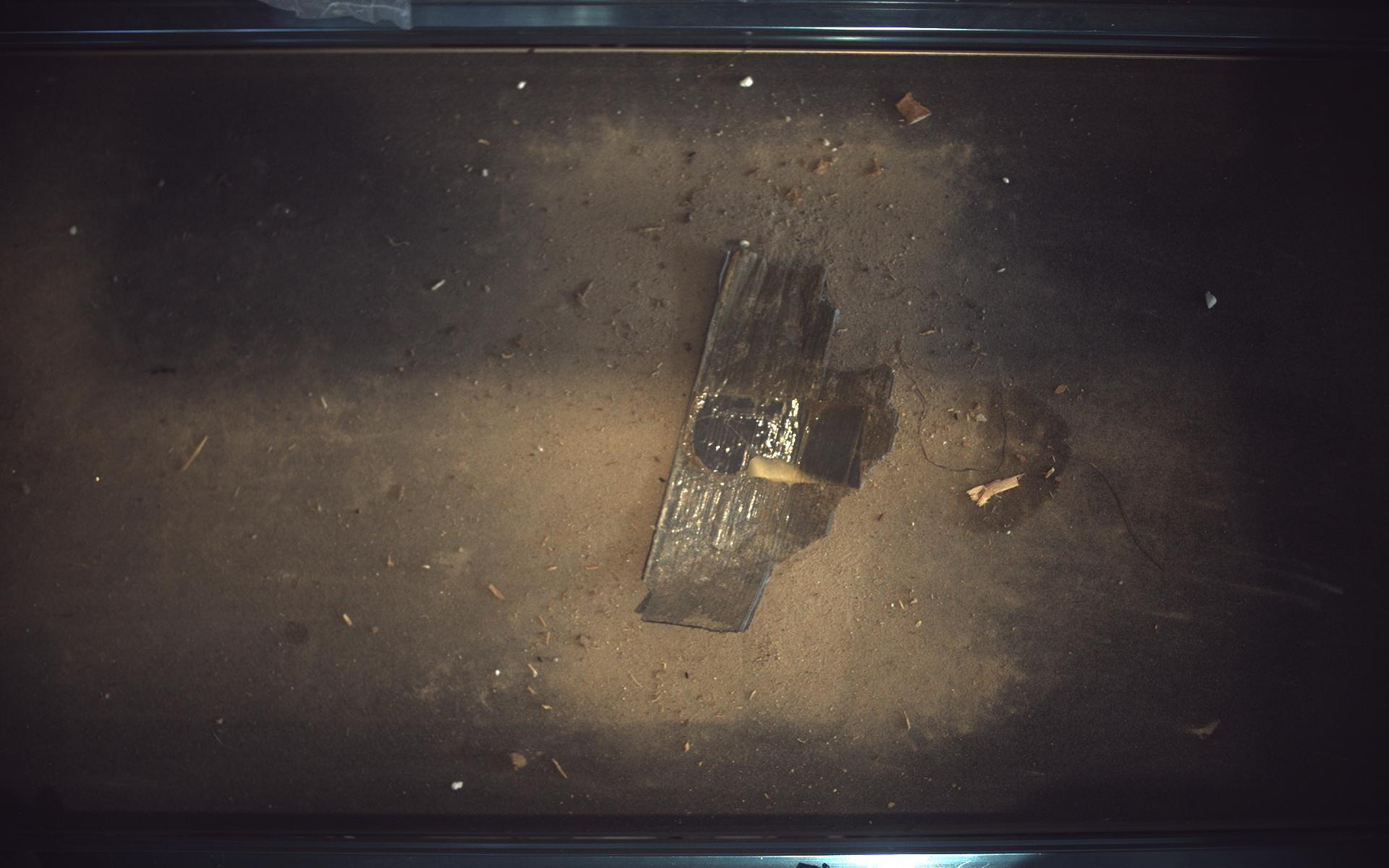plastic: (638, 246, 900, 633)
